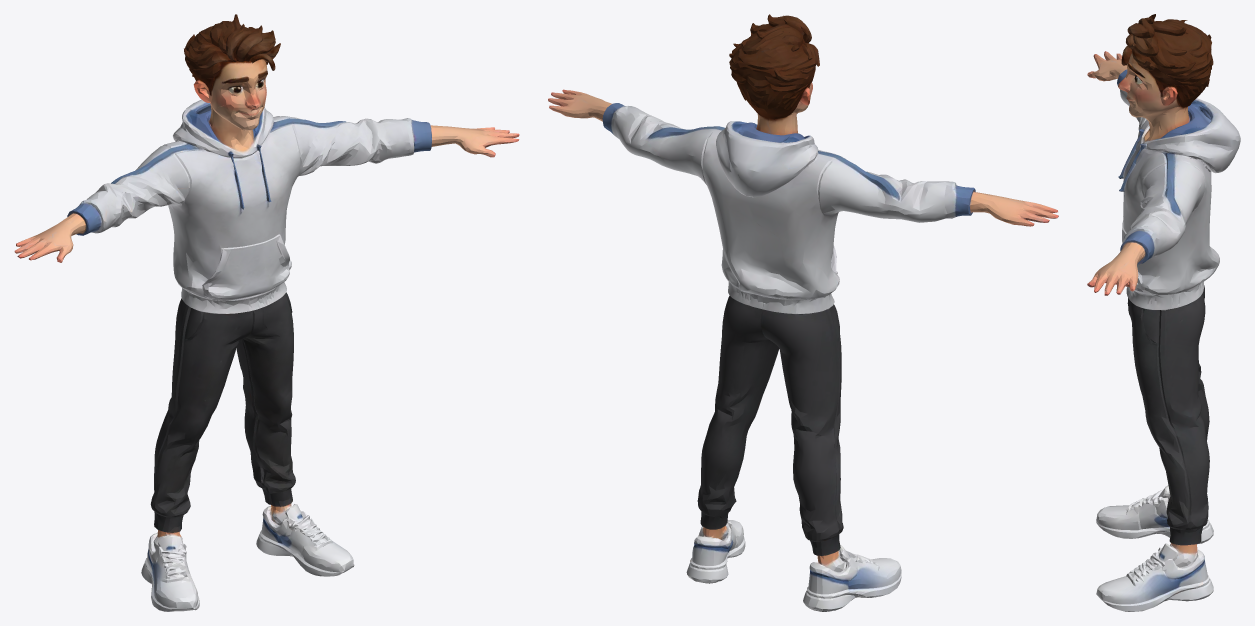
File: runner.glb
3 renders of one model, left to right at view 1: azimuth 30°, elevation 25°; view 2: azimuth 150°, elevation 25°; view 3: azimuth 270°, elevation 25°, orthographic.
Parts seen in each view (by area): view 1: model; view 2: model; view 3: model.
Boxes of the visible parts, x1=… form: model: x1=14, y1=14, x2=519, y2=611; model: x1=548, y1=14, x2=1058, y2=611; model: x1=1087, y1=14, x2=1240, y2=611.
Bounding box in the file's own units: 1.79 × 1.9 × 0.4781.
1 material, 1 textured.
